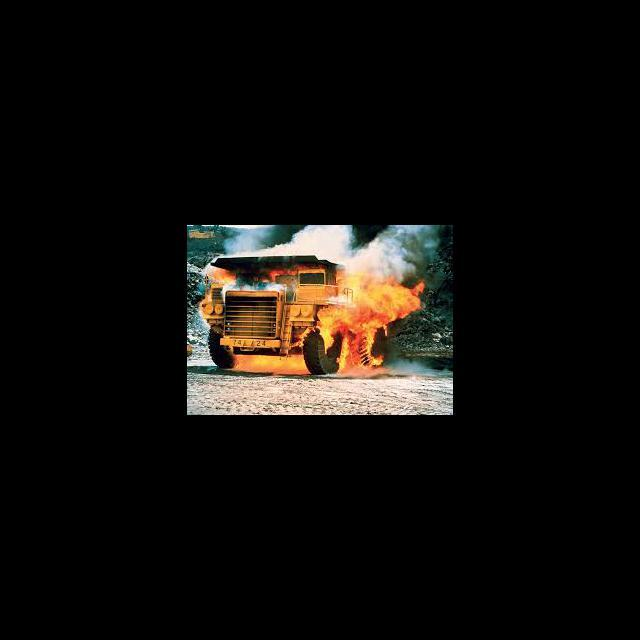Fire: (320, 278, 419, 371), (232, 354, 308, 376), (206, 269, 236, 286), (292, 325, 312, 350), (270, 266, 304, 276)
Smoke: (222, 226, 441, 275)
